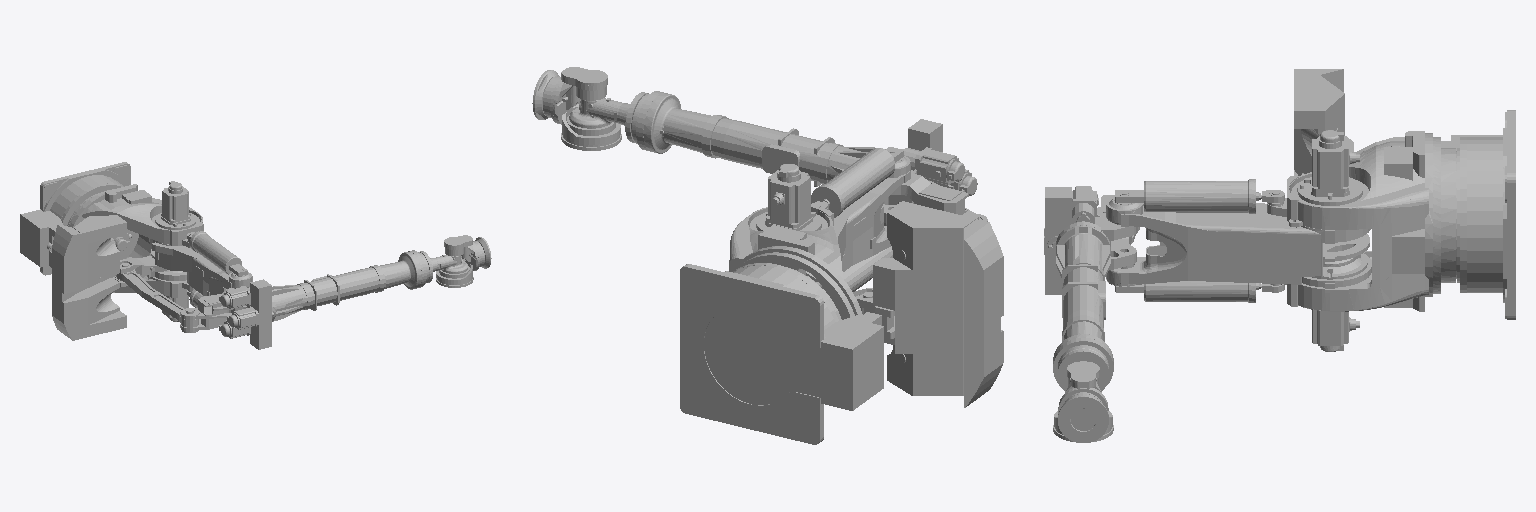
robot.urdf — HX300L:
<robot
  name="HX300L">
  <link
    name="base_link">
    <inertial>
      <origin
        xyz="-0.10571 0.00037135 0.15034"
        rpy="0 0 0" />
      <mass
        value="94.155" />
      <inertia
        ixx="5.0659"
        ixy="-0.00090073"
        ixz="0.22595"
        iyy="8.6889"
        iyz="-0.006709"
        izz="11.427" />
    </inertial>
    <visual>
      <origin
        xyz="0 0 0"
        rpy="0 0 0" />
      <geometry>
        <mesh
          filename="package://HX300L/meshes/base_link.STL" />
      </geometry>
      <material
        name="">
        <color
          rgba="0.75294 0.75294 0.75294 1" />
      </material>
    </visual>
    <collision>
      <origin
        xyz="0 0 0"
        rpy="0 0 0" />
      <geometry>
        <mesh
          filename="package://HX300L/meshes/base_link.STL" />
      </geometry>
    </collision>
  </link>
  <link
    name="link1">
    <inertial>
      <origin
        xyz="0.00012284 0.19489 0.37552"
        rpy="0 0 0" />
      <mass
        value="106.8" />
      <inertia
        ixx="10.481"
        ixy="0.010729"
        ixz="0.0017654"
        iyy="13.354"
        iyz="-2.9039"
        izz="11.103" />
    </inertial>
    <visual>
      <origin
        xyz="0 0 0"
        rpy="0 0 0" />
      <geometry>
        <mesh
          filename="package://HX300L/meshes/link1.STL" />
      </geometry>
      <material
        name="">
        <color
          rgba="0.75294 0.75294 0.75294 1" />
      </material>
    </visual>
    <collision>
      <origin
        xyz="0 0 0"
        rpy="0 0 0" />
      <geometry>
        <mesh
          filename="package://HX300L/meshes/link1.STL" />
      </geometry>
    </collision>
  </link>
  <joint
    name="joint1"
    type="continuous">
    <origin
      xyz="0 -0.312 0"
      rpy="1.5708 1.5708 0" />
    <parent
      link="base_link" />
    <child
      link="link1" />
    <axis
      xyz="0 0 0" />
  </joint>
  <link
    name="link2">
    <inertial>
      <origin
        xyz="0.00012284 0.19489 0.37552"
        rpy="0 0 0" />
      <mass
        value="106.8" />
      <inertia
        ixx="10.481"
        ixy="0.010729"
        ixz="0.0017654"
        iyy="13.354"
        iyz="-2.9039"
        izz="11.103" />
    </inertial>
    <visual>
      <origin
        xyz="0 0 0"
        rpy="0 0 0" />
      <geometry>
        <mesh
          filename="package://HX300L/meshes/link2.STL" />
      </geometry>
      <material
        name="">
        <color
          rgba="0.75294 0.75294 0.75294 1" />
      </material>
    </visual>
    <collision>
      <origin
        xyz="0 0 0"
        rpy="0 0 0" />
      <geometry>
        <mesh
          filename="package://HX300L/meshes/link2.STL" />
      </geometry>
    </collision>
  </link>
  <joint
    name="joint2"
    type="continuous">
    <origin
      xyz="0 0 0"
      rpy="0 0 0" />
    <parent
      link="link1" />
    <child
      link="link2" />
    <axis
      xyz="0 0 0" />
  </joint>
  <link
    name="link3">
    <inertial>
      <origin
        xyz="0.0042845 0.16312 0.54267"
        rpy="0 0 0" />
      <mass
        value="132.25" />
      <inertia
        ixx="31.588"
        ixy="-0.12348"
        ixz="0.31319"
        iyy="27.748"
        iyz="6.4282"
        izz="16.933" />
    </inertial>
    <visual>
      <origin
        xyz="0 0 0"
        rpy="0 0 0" />
      <geometry>
        <mesh
          filename="package://HX300L/meshes/link3.STL" />
      </geometry>
      <material
        name="">
        <color
          rgba="0.75294 0.75294 0.75294 1" />
      </material>
    </visual>
    <collision>
      <origin
        xyz="0 0 0"
        rpy="0 0 0" />
      <geometry>
        <mesh
          filename="package://HX300L/meshes/link3.STL" />
      </geometry>
    </collision>
  </link>
  <joint
    name="joint3"
    type="continuous">
    <origin
      xyz="0 0.3 0.588"
      rpy="1.5708 1.0519E-30 -6.123E-17" />
    <parent
      link="link2" />
    <child
      link="link3" />
    <axis
      xyz="0 0 0" />
  </joint>
  <link
    name="link4">
    <inertial>
      <origin
        xyz="0.30619 0.19413 0.0051782"
        rpy="0 0 0" />
      <mass
        value="52.493" />
      <inertia
        ixx="1.0298"
        ixy="-0.26095"
        ixz="0.16834"
        iyy="19.387"
        iyz="0.045153"
        izz="19.429" />
    </inertial>
    <visual>
      <origin
        xyz="0 0 0"
        rpy="0 0 0" />
      <geometry>
        <mesh
          filename="package://HX300L/meshes/link4.STL" />
      </geometry>
      <material
        name="">
        <color
          rgba="0.75294 0.75294 0.75294 1" />
      </material>
    </visual>
    <collision>
      <origin
        xyz="0 0 0"
        rpy="0 0 0" />
      <geometry>
        <mesh
          filename="package://HX300L/meshes/link4.STL" />
      </geometry>
    </collision>
  </link>
  <joint
    name="joint4"
    type="continuous">
    <origin
      xyz="0 1 0"
      rpy="0 1.5708 0" />
    <parent
      link="link3" />
    <child
      link="link4" />
    <axis
      xyz="0 0 0" />
  </joint>
  <link
    name="link5">
    <inertial>
      <origin
        xyz="0.025612 -0.028607 6.4886E-05"
        rpy="0 0 0" />
      <mass
        value="18.566" />
      <inertia
        ixx="0.20321"
        ixy="-0.021199"
        ixz="-0.00025862"
        iyy="0.4088"
        iyz="-2.5248E-05"
        izz="0.49269" />
    </inertial>
    <visual>
      <origin
        xyz="0 0 0"
        rpy="0 0 0" />
      <geometry>
        <mesh
          filename="package://HX300L/meshes/link5.STL" />
      </geometry>
      <material
        name="">
        <color
          rgba="0.75294 0.75294 0.75294 1" />
      </material>
    </visual>
    <collision>
      <origin
        xyz="0 0 0"
        rpy="0 0 0" />
      <geometry>
        <mesh
          filename="package://HX300L/meshes/link5.STL" />
      </geometry>
    </collision>
  </link>
  <joint
    name="joint5"
    type="continuous">
    <origin
      xyz="1.8 0.2 0"
      rpy="-1.5708 0 0" />
    <parent
      link="link4" />
    <child
      link="link5" />
    <axis
      xyz="0 0 0" />
  </joint>
</robot>

--- What the picture shows (computed from the rendered views, not written in the file) ---
Views: 3 orthographic renders of the robot side by side, from view 1: azimuth 30°, elevation 25°; view 2: azimuth 150°, elevation 25°; view 3: azimuth 270°, elevation 25°.
Robot: HX300L — 6 links, 5 joints (5 continuous); root link base_link; default pose: every joint at zero.
Visible links, largest first — view 1: link3, link4, link1, base_link, link5; view 2: link3, base_link, link4, link1, link5; view 3: link3, link1, link4, base_link, link5.
Boxes of the visible links, x1,y1,x2,y2 form: link3: [52, 215, 252, 340]; link4: [180, 250, 429, 349]; link1: [68, 181, 203, 321]; base_link: [20, 162, 130, 275]; link5: [420, 235, 491, 287]; link3: [811, 147, 1003, 407]; base_link: [680, 263, 883, 444]; link4: [631, 91, 987, 224]; link1: [729, 164, 862, 320]; link5: [532, 67, 648, 150]; link3: [1106, 69, 1371, 302]; link1: [1267, 130, 1455, 351]; link4: [1044, 186, 1139, 387]; base_link: [1441, 110, 1515, 319]; link5: [1053, 349, 1113, 442].
Bounding box of the posed robot: 3.16 × 2.29 × 1.15 m (x, y, z).
5 mesh visuals loaded from 6 distinct referenced files (5 binary STL); not drawn: 1 (reference not matched to a file when rendering).